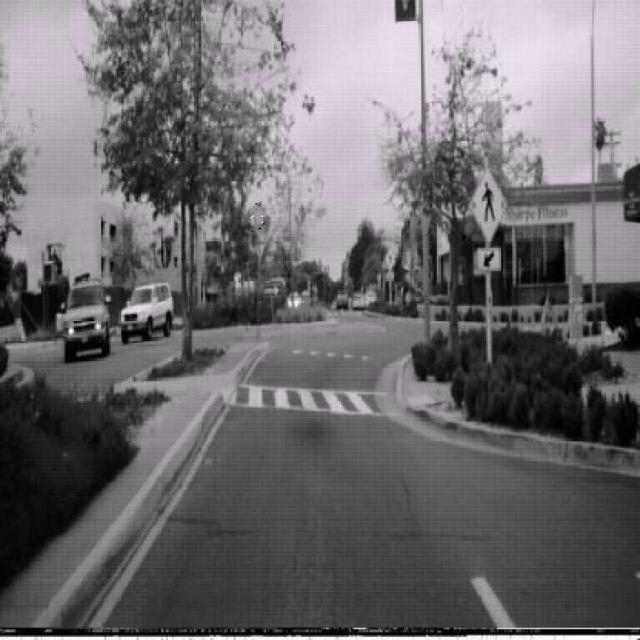pedestrianCrossing: (468, 166, 507, 246), (383, 249, 395, 274)
yield: (250, 203, 268, 235)
